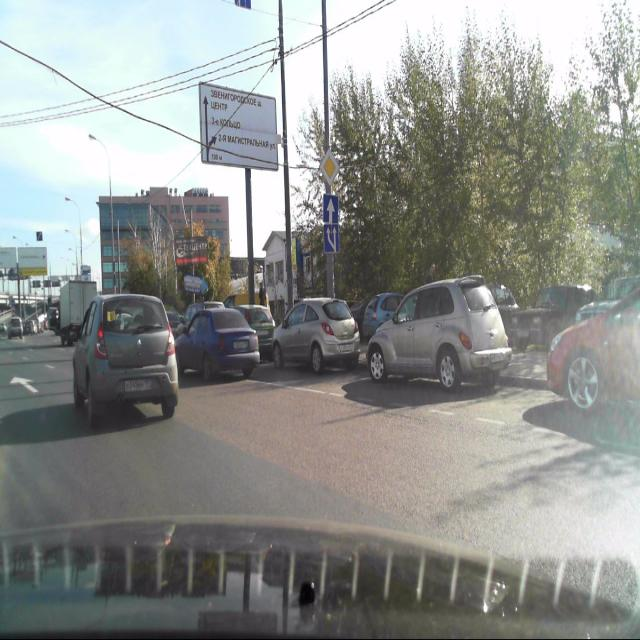road sign: (320, 146, 342, 188), (322, 190, 339, 224), (322, 225, 338, 253)
